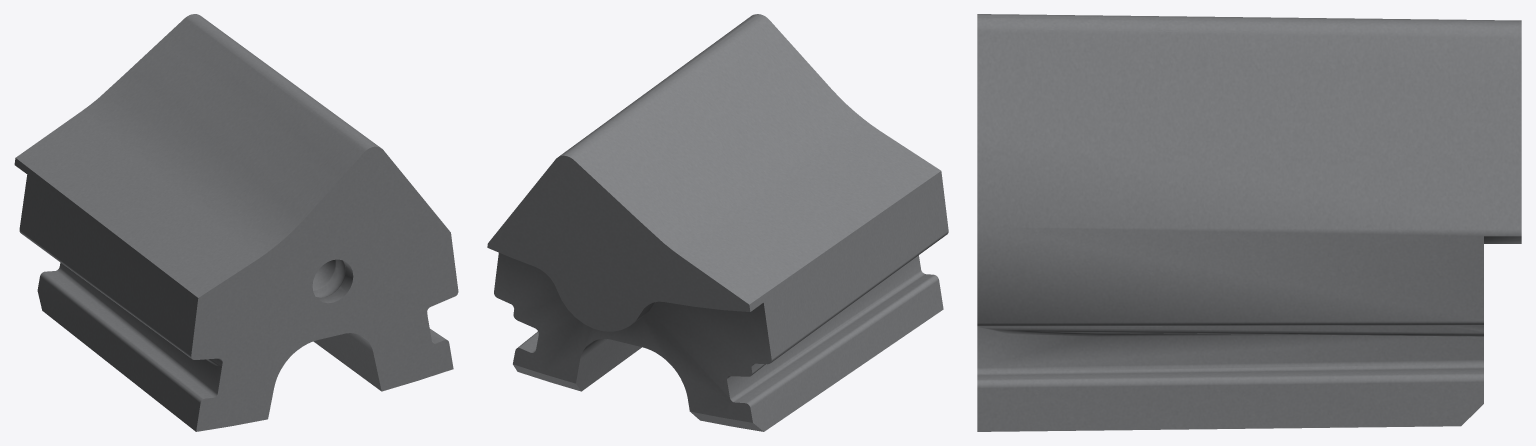
Rendered from quarry-anvil.glb.
The picture shows the model from 3 angles, left to right: view 1: azimuth 30°, elevation 25°; view 2: azimuth 150°, elevation 25°; view 3: azimuth 270°, elevation 25°; orthographic projection. The views are drawn at different scales.
Visible parts, largest first — view 1: metal; view 2: metal; view 3: metal.
Part boxes in pixels (bbox=[...]): metal: bbox=[14, 14, 458, 431]; metal: bbox=[487, 14, 948, 431]; metal: bbox=[977, 14, 1521, 431].
Size of the model in its own units: 0.3028 by 0.2662 by 0.36.
1 material, 1 textured.
